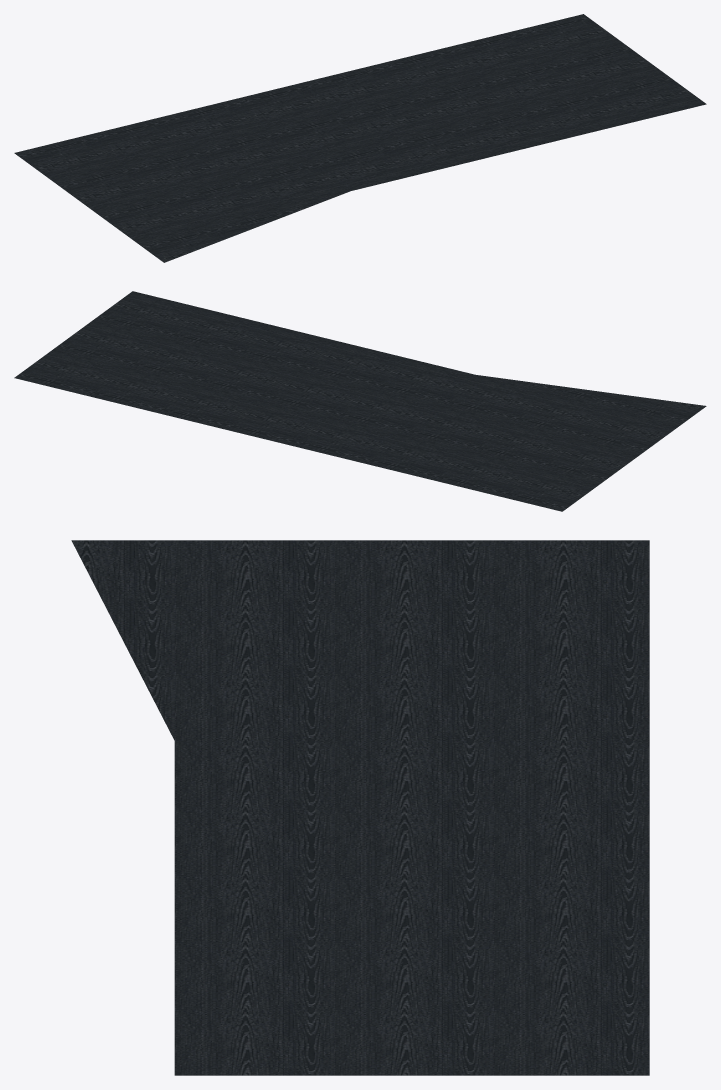
Rendered from GYM_Ceiling_8.fbx.
The picture shows the model from 3 angles, top to bottom: view 1: azimuth 30°, elevation 25°; view 2: azimuth 150°, elevation 25°; view 3: azimuth 270°, elevation 25°; orthographic projection. The views are drawn at different scales.
Parts seen in each view (by area): view 1: GYM_Ceiling_Panel_4; view 2: GYM_Ceiling_Panel_4; view 3: GYM_Ceiling_Panel_4.
Part boxes in pixels (left/top/right/bottom): GYM_Ceiling_Panel_4: left=14, top=14, right=706, bottom=262; GYM_Ceiling_Panel_4: left=14, top=291, right=706, bottom=511; GYM_Ceiling_Panel_4: left=71, top=540, right=649, bottom=1075.
Size of the model in its own units: 4 by 8.88e-16 by 1.83.
Materials: 1 (1 with a texture image).
